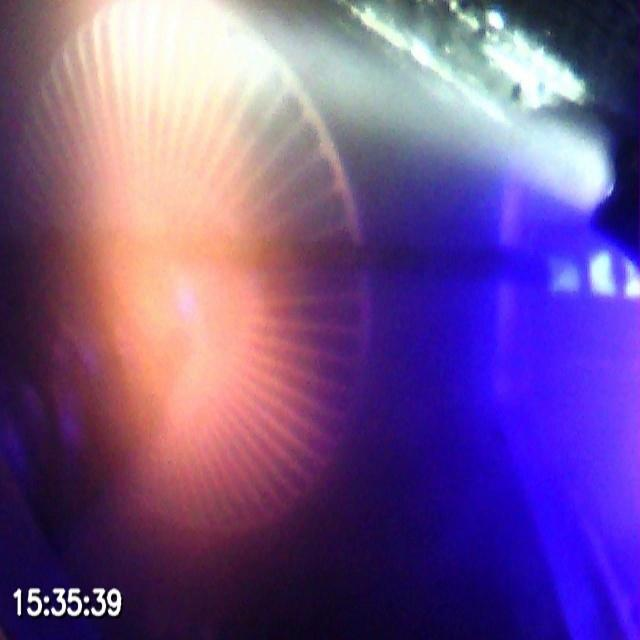white-dots: (546, 246, 640, 302)
